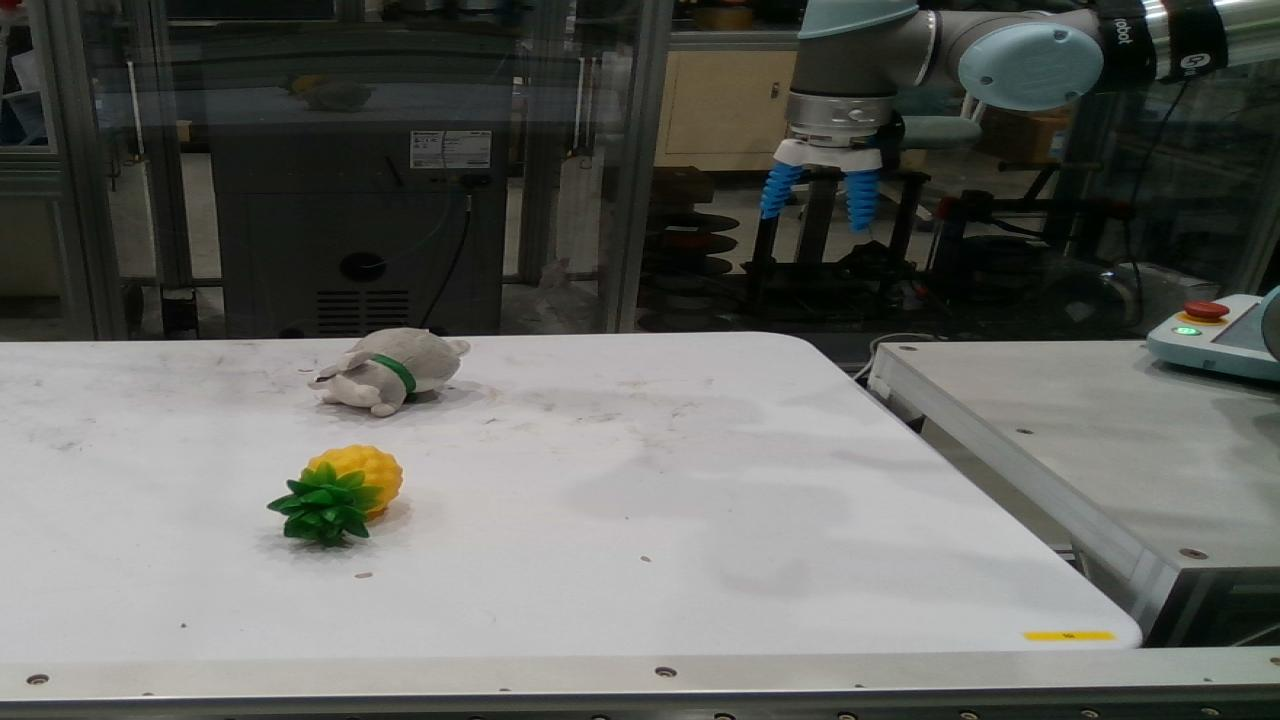UR5: (774, 0, 1279, 170), (1148, 287, 1279, 380)
gripper_left: (761, 162, 803, 218)
gripper_right: (847, 171, 877, 231)
target: (308, 329, 470, 416), (268, 445, 400, 547)
